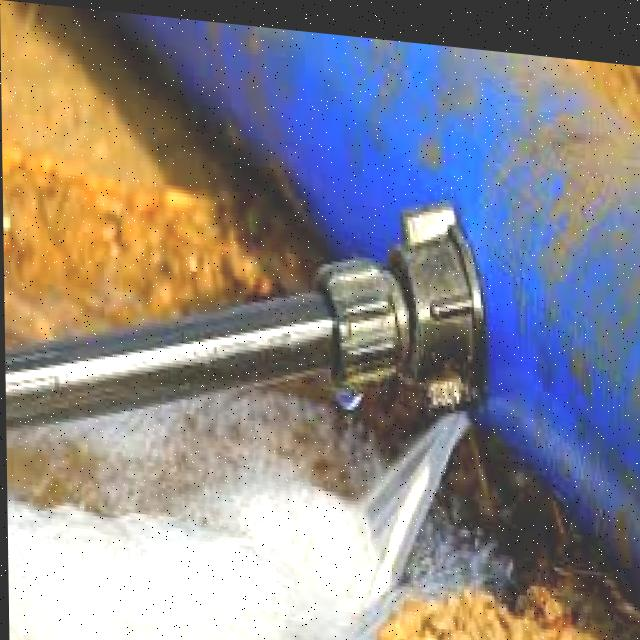corrosion: (365, 353, 545, 488)
